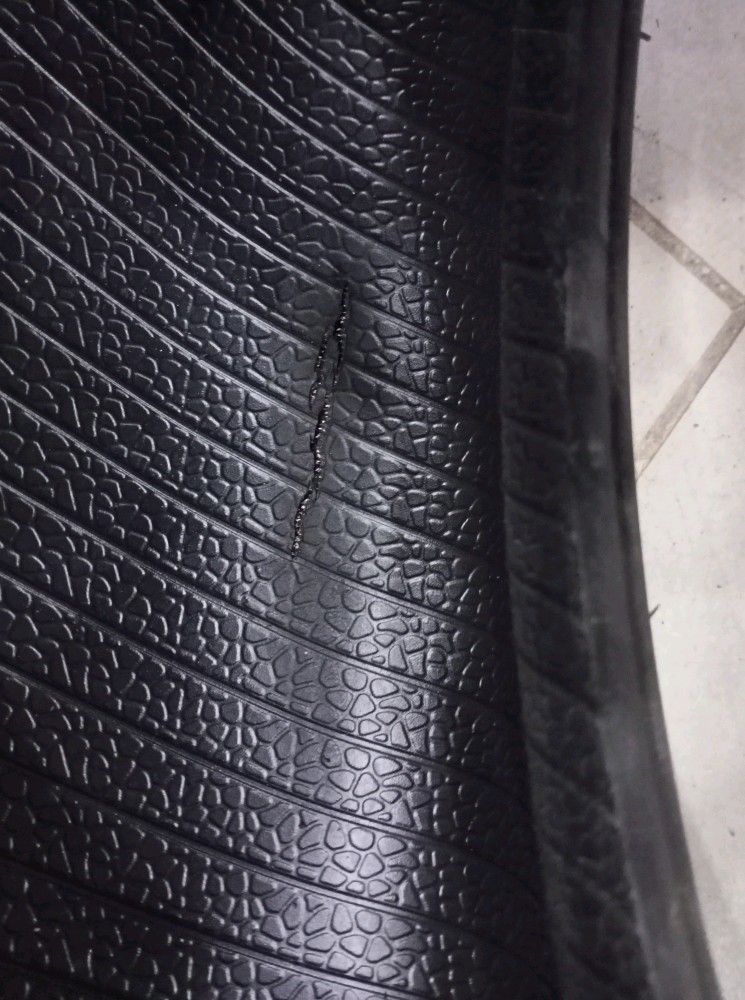CBU: (286, 280, 371, 568)
